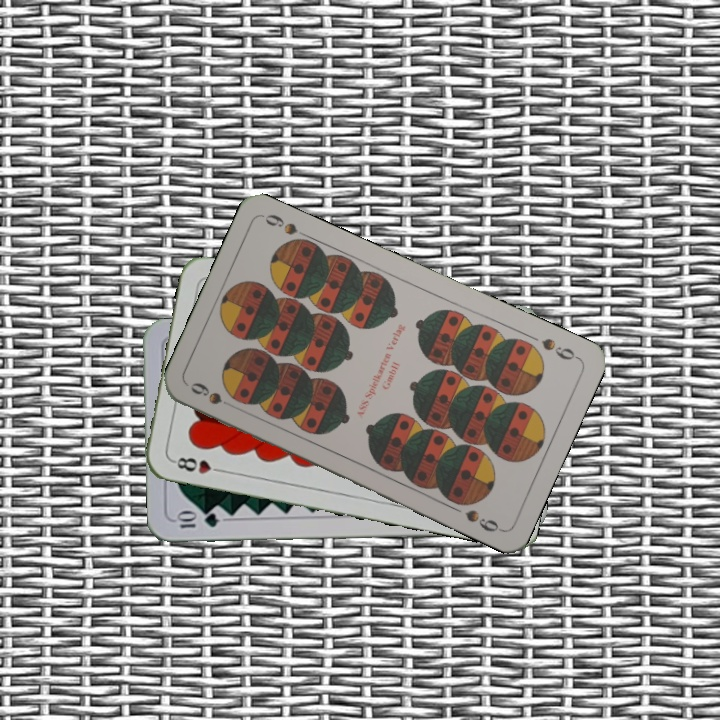G10: (172, 509, 221, 531)
H8: (169, 453, 227, 477)
S9: (186, 378, 241, 413), (537, 334, 582, 363)
